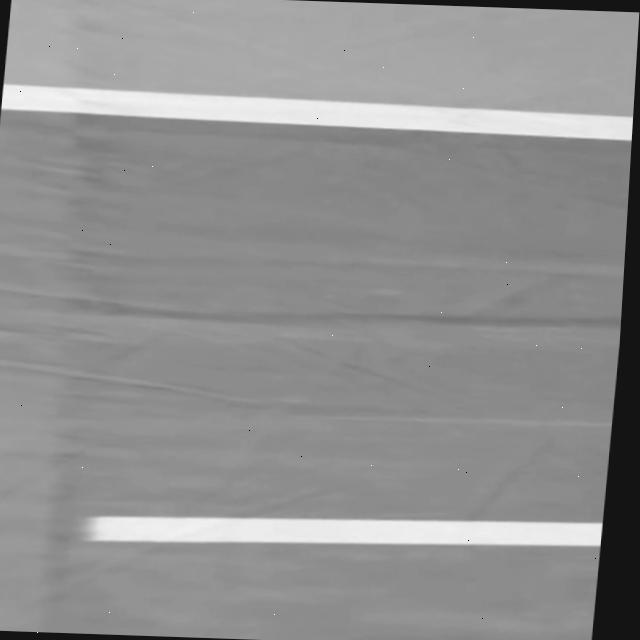center: (82, 515, 602, 545)
right: (1, 83, 633, 139)
